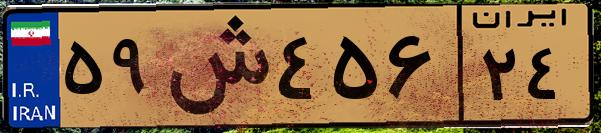2: (475, 38, 525, 113)
4: (270, 28, 330, 110), (525, 38, 570, 115)
5: (330, 28, 385, 110), (57, 26, 110, 100)
6: (385, 28, 445, 110)
9: (110, 28, 158, 98)
ش: (158, 12, 270, 120)
